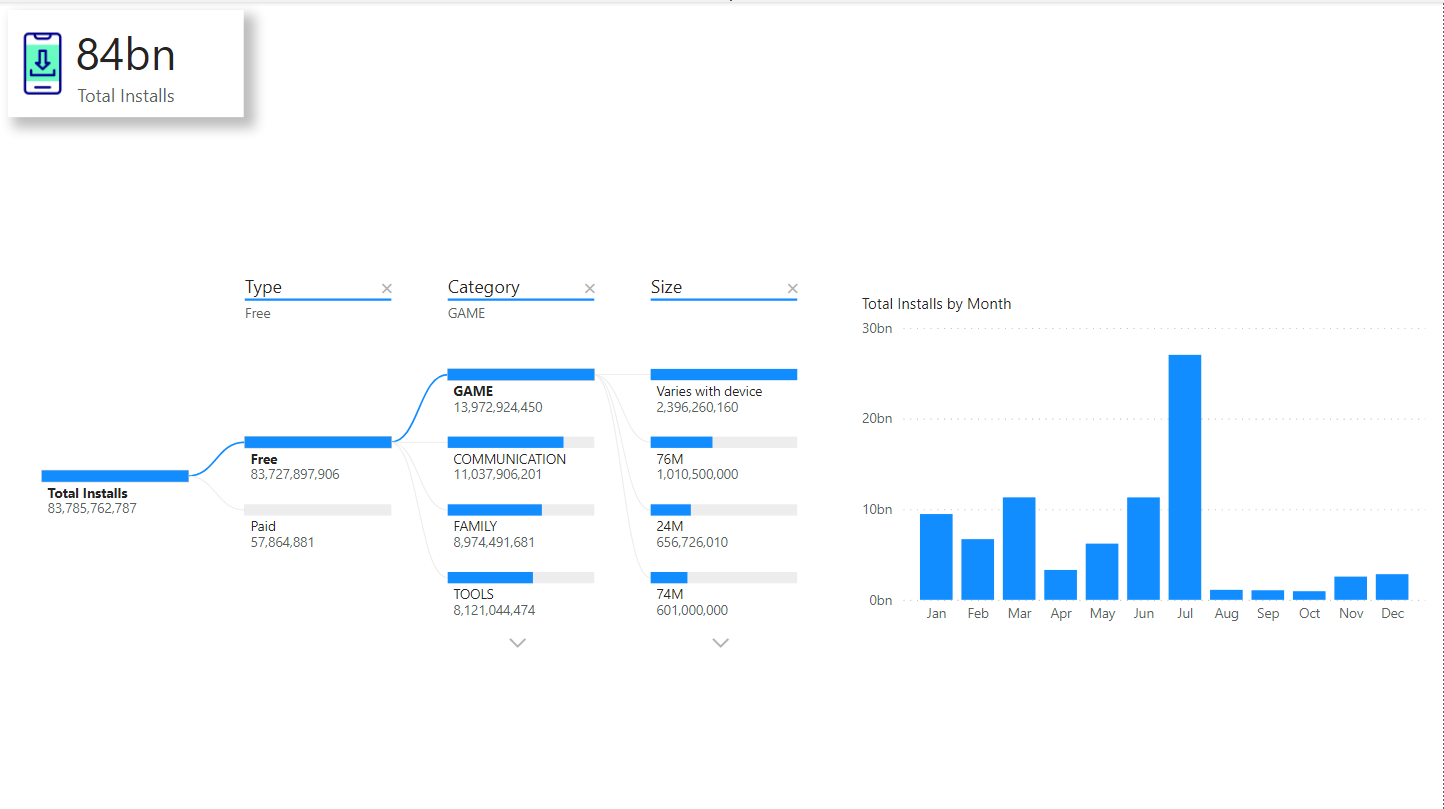

What the dashboard file says about the page in this screenshot:
{"tool":"powerbi","page":{"name":"Installation","canvas":[1280,720],"ordinal":2},"visuals":[{"type":"card","fields":{"Values":["Measures Table.Total Installs"]},"box":[7.7,6.8,209,95],"z":0,"group":"g1"},{"type":"decompositionTreeVisual","fields":{"Analyze":["Measures Table.Total Installs"],"ExplainBy":["apps.Type","apps.Category","apps.Size"]},"box":[7.8,227.6,740.2,362.8],"z":0},{"type":"clusteredColumnChart","title":"Total Installs by Month","fields":{"Y":["Measures Table.Total Installs"],"Category":["CalendarTable.Name of Month"]},"box":[759.6,257.8,509.7,302.5],"z":1000},{"type":"group","id":"g1","title":"Group 1","box":[5.8,6.8,210.9,95],"z":2000},{"type":"image","box":[5.8,6.8,65.2,95],"z":2001,"group":"g1"}]}

Visuals, with their boxes in screenshot pixels (x1, y1, x2, y2), scaled from the page's 1280x720 canvas onto the 1444x809 screenshot:
card - Measures Table.Total Installs: 9/8/244/114
decompositionTreeVisual - Measures Table.Total Installs x apps.Type: 9/256/844/663
"Total Installs by Month" clusteredColumnChart: 857/290/1432/630
"Group 1" group: 7/8/244/114
image: 7/8/80/114
